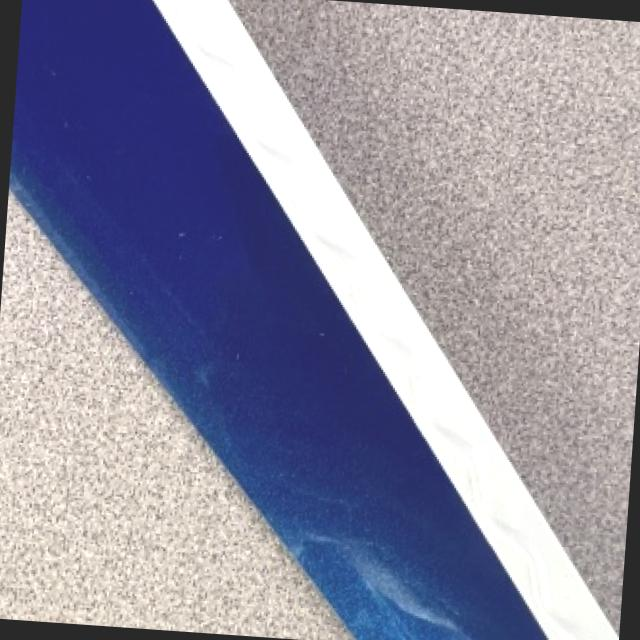healthy: (9, 0, 617, 640)
